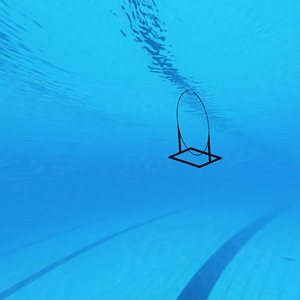circle: (169, 89, 222, 172)
